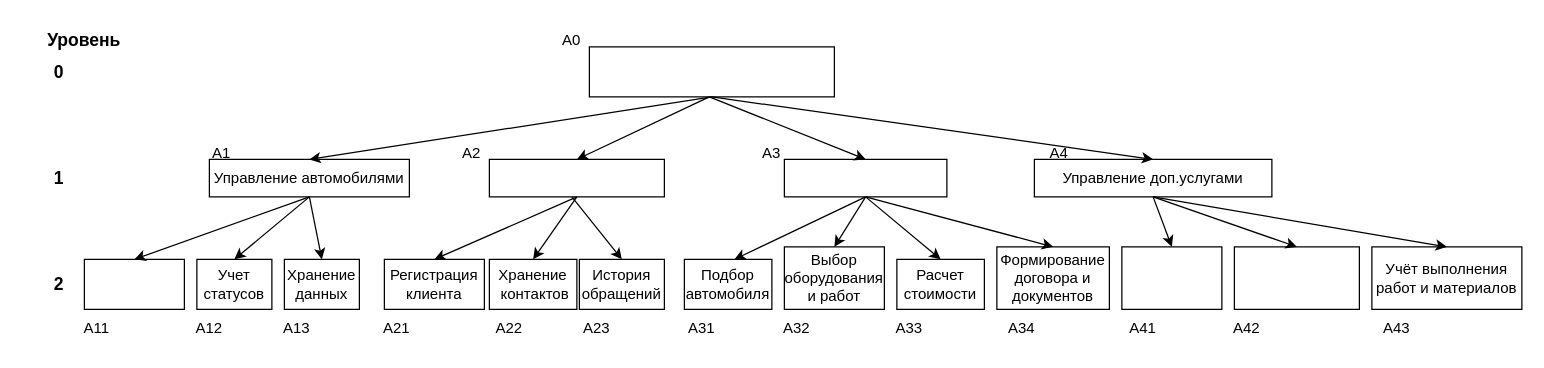
Some shapes in this 1544 by 368 pixel diagram are drawn without their labels. The shapes that lost their labels are listed below. From the top down, each one's centre as x and y in pixels, then its label:
the point at 711,71: УПРАВЛЕНИЕ ДЕЯТЕЛЬНОСТЬЮ АВТОСАЛОНА
the point at 576,177: Управление клиентами
the point at 865,177: Оформление продажи автомобиля
the point at 133,283: Регистрация авто
the point at 1171,277: Справочник услуг и работ
the point at 1296,277: Планирование и назначение мастеров
